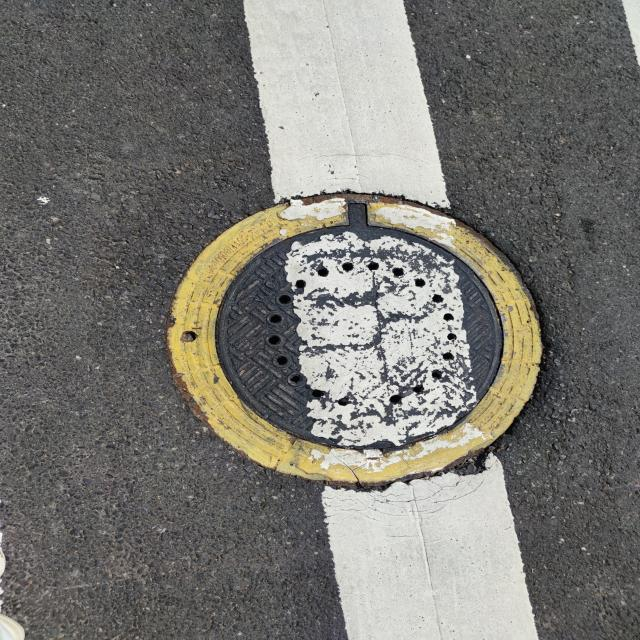Good: (168, 193, 556, 494)
